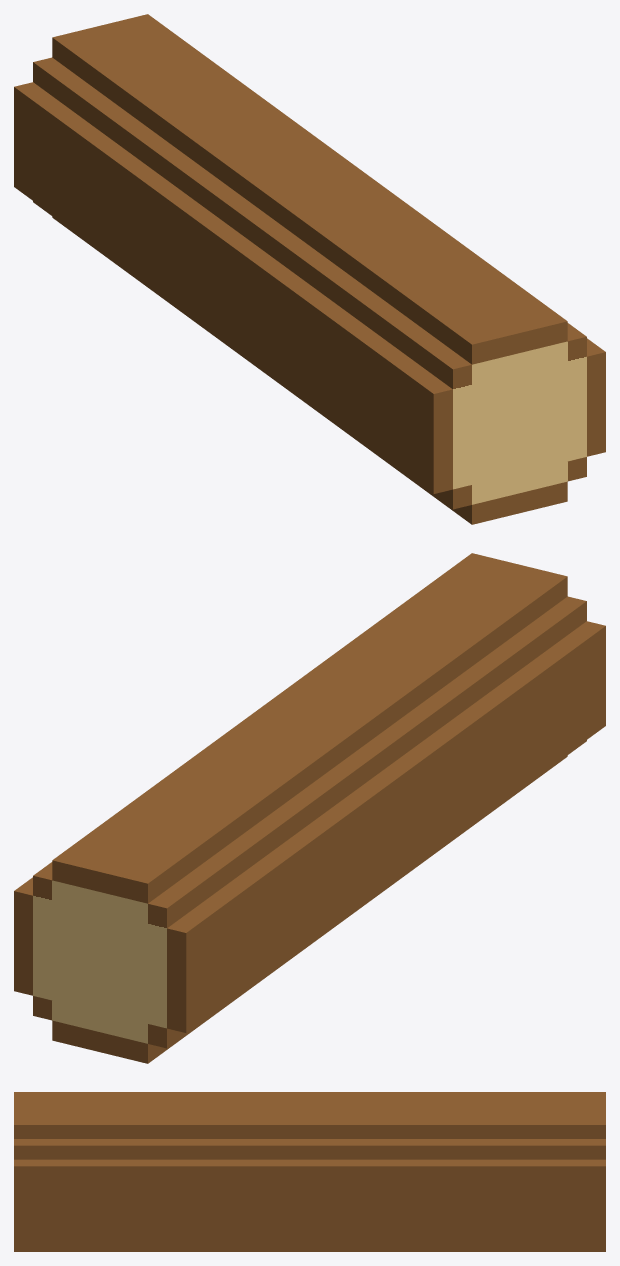
Rendered from Log1.dae.
3 views of the same model, one above another, from view 1: azimuth 30°, elevation 25°; view 2: azimuth 150°, elevation 25°; view 3: azimuth 270°, elevation 25° (orthographic). The views are drawn at different scales.
Visible parts, largest first — view 1: log1.merged; view 2: log1.merged; view 3: log1.merged.
Part boxes in pixels (<box>): log1.merged: <box>14,14,605,524</box>; log1.merged: <box>14,553,605,1063</box>; log1.merged: <box>14,1092,605,1251</box>.
Bounding box in the file's own units: 0.9 × 0.9 × 3.8.
Materials: 1 (1 with a texture image).
